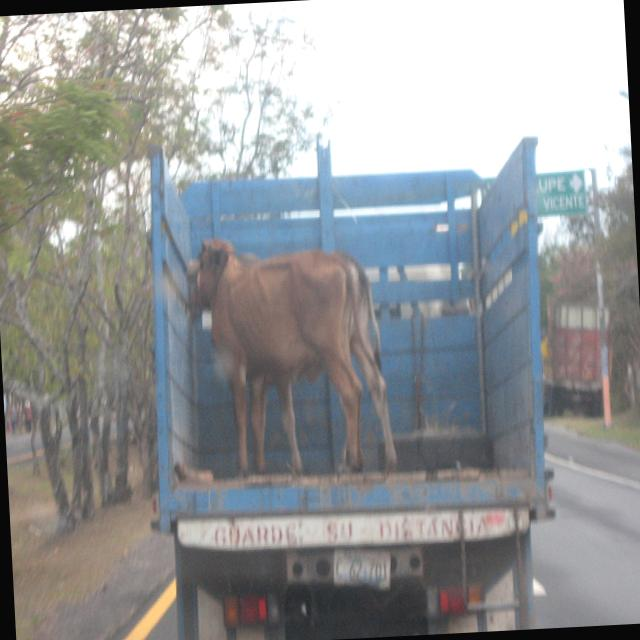Vehicle: (137, 126, 567, 640)
